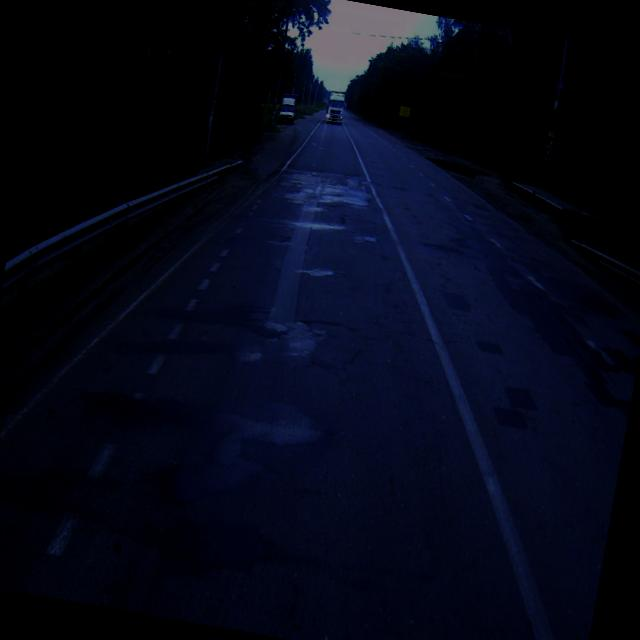road: (0, 111, 640, 640)
